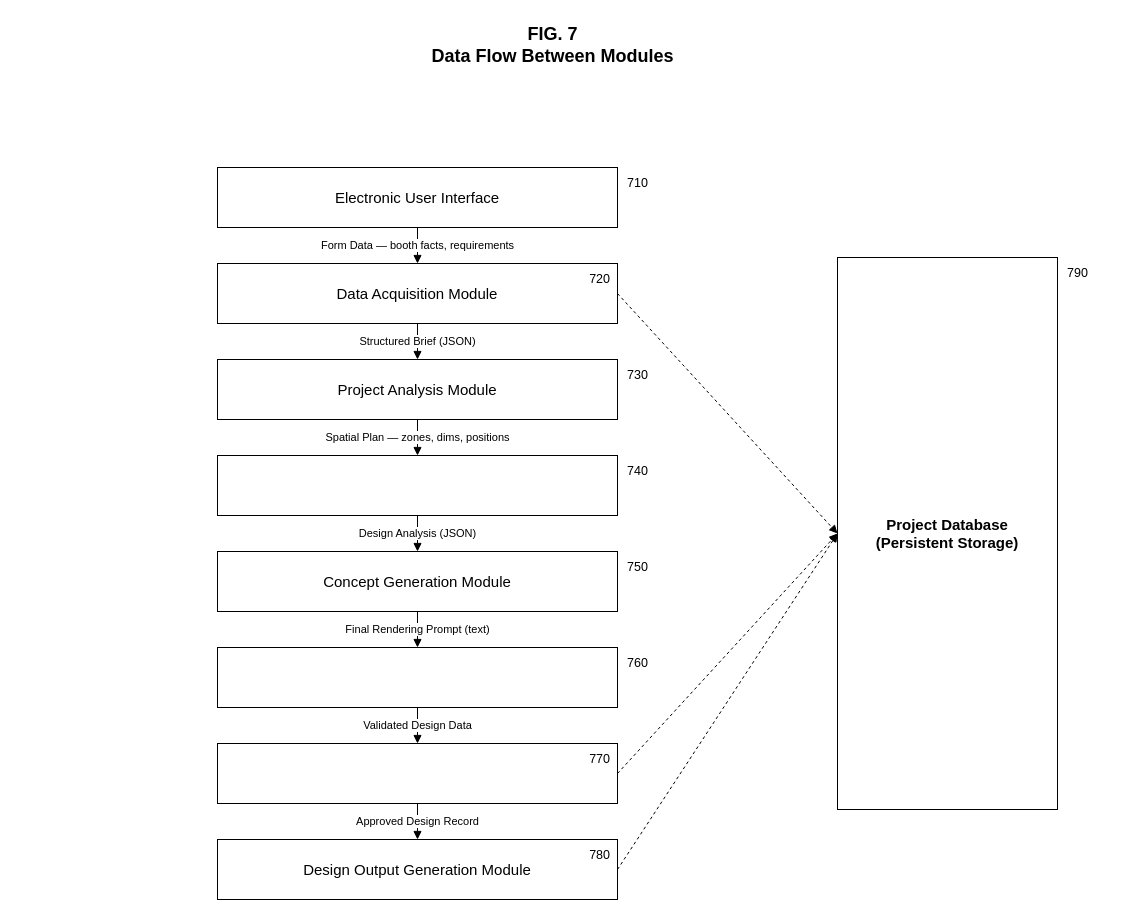
Image size: 1122x917. Some labels were removed from this diagram. The box of each missing label's shape, as (x1, y1, x2, y2) in pixels:
3D Design Generation Module: (216, 646, 618, 708)
Design Validation Module: (216, 742, 618, 804)
Space Planning Module: (216, 454, 618, 516)
